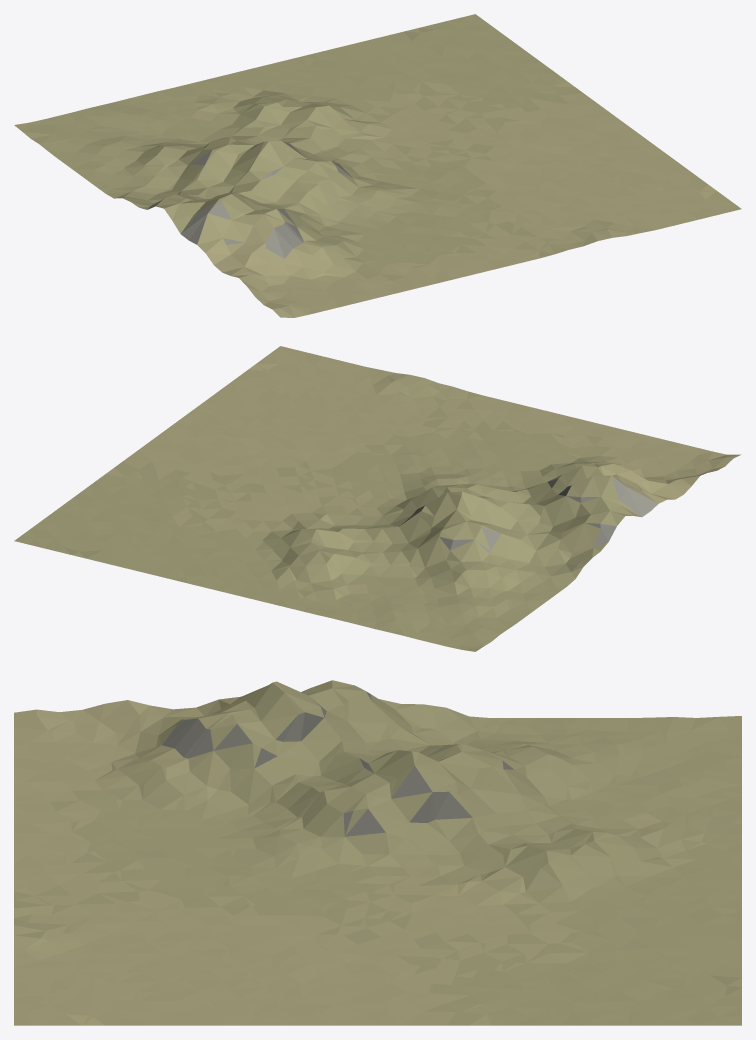
The model's file is Ground_4_-10.glb.
The picture shows the model from 3 angles, top to bottom: view 1: azimuth 30°, elevation 25°; view 2: azimuth 150°, elevation 25°; view 3: azimuth 270°, elevation 25°; orthographic projection. The views are drawn at different scales.
Parts seen in each view (by area): view 1: Ground_4_-10; view 2: Ground_4_-10; view 3: Ground_4_-10.
Part boxes in pixels (x1,y1,x2,y2): Ground_4_-10: [14, 14, 741, 317]; Ground_4_-10: [14, 346, 741, 651]; Ground_4_-10: [14, 680, 741, 1025].
Size of the model in its own units: 768 by 69.64 by 768.
